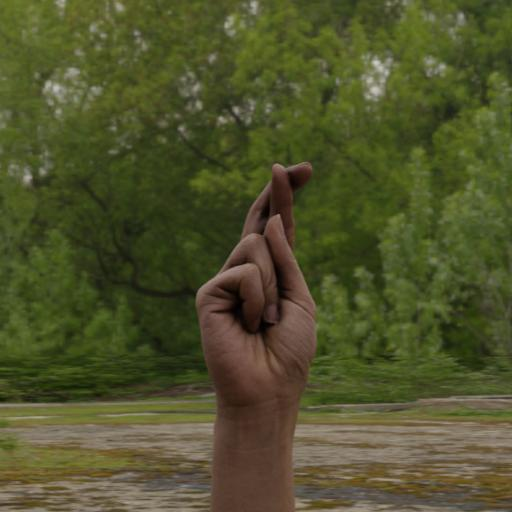R: (188, 157, 336, 422)
